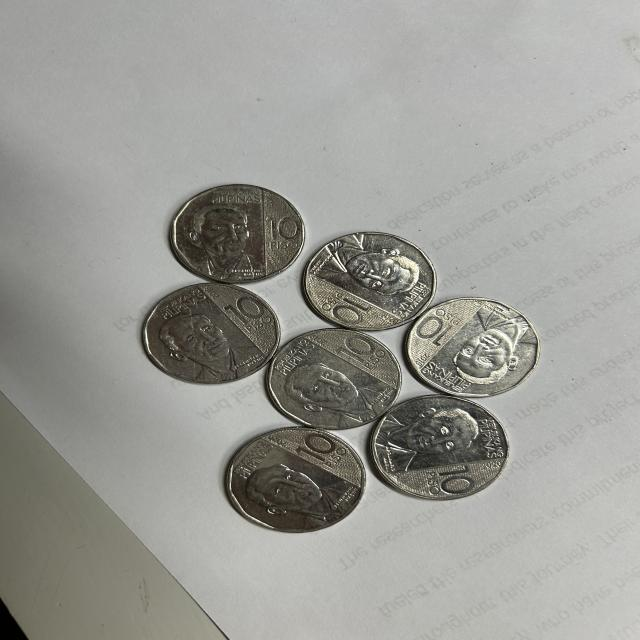10_New_Front: (316, 287, 372, 330), (214, 296, 276, 334), (286, 433, 344, 469), (334, 329, 379, 370), (412, 467, 478, 494), (265, 206, 302, 249), (420, 308, 454, 352)
